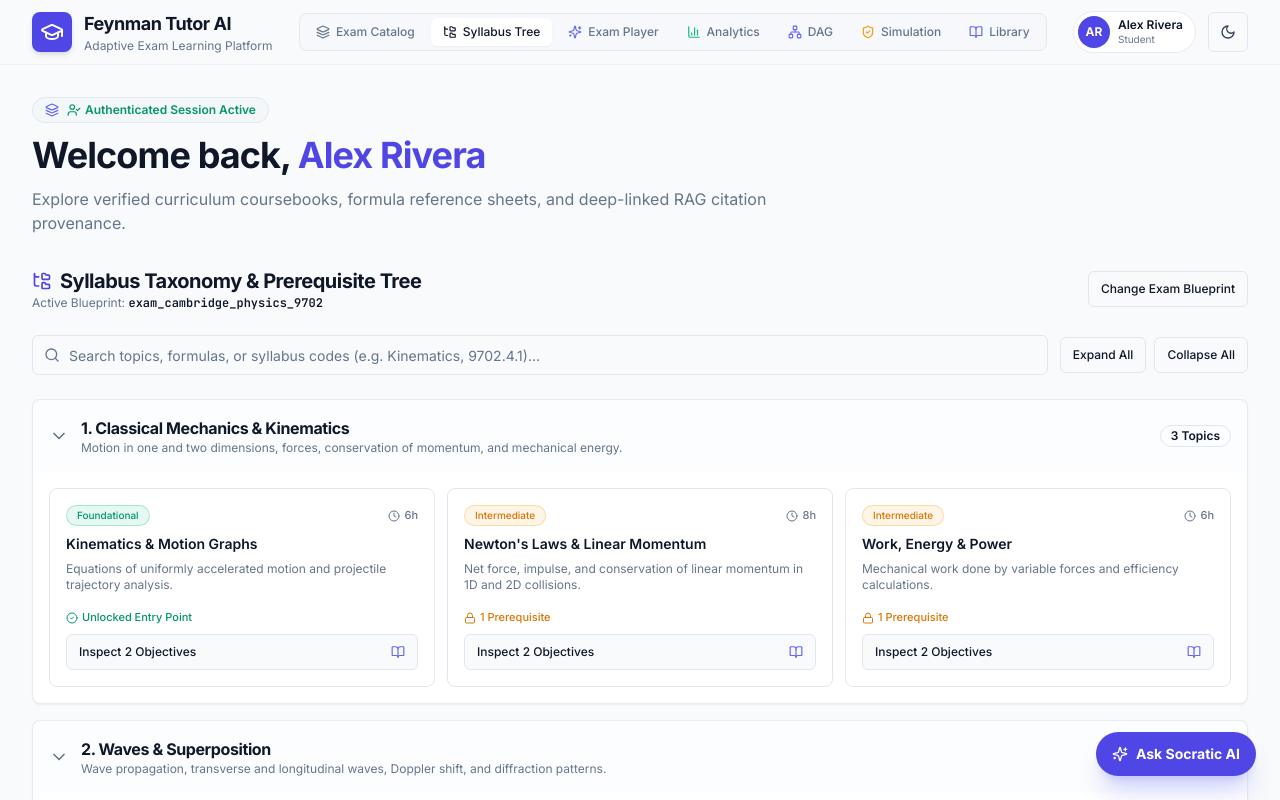
Student Analytics & Error Bank Suite › filters error bank items by category and marks an error as resolved
The image size is (1280, 800).
Click the button "Analytics" at (723, 32), box top-left (675, 18), bottom-right (772, 46)
(page scrolled)
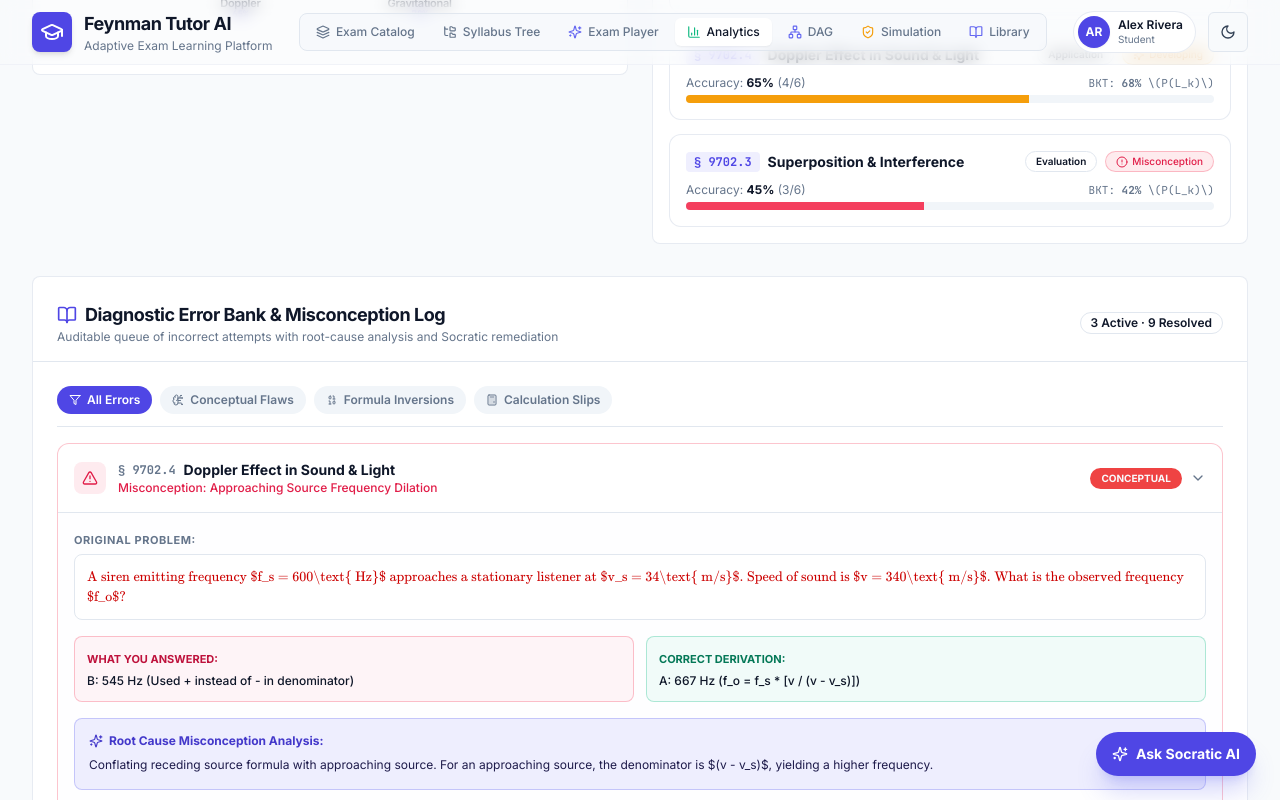
Check: the heading "Diagnostic Error Bank & Misconception Log" is shown, box top-left (57, 304), bottom-right (445, 325)
Click the button "Formula Inversions" at (390, 400), box top-left (314, 386), bottom-right (466, 414)
(page scrolled)
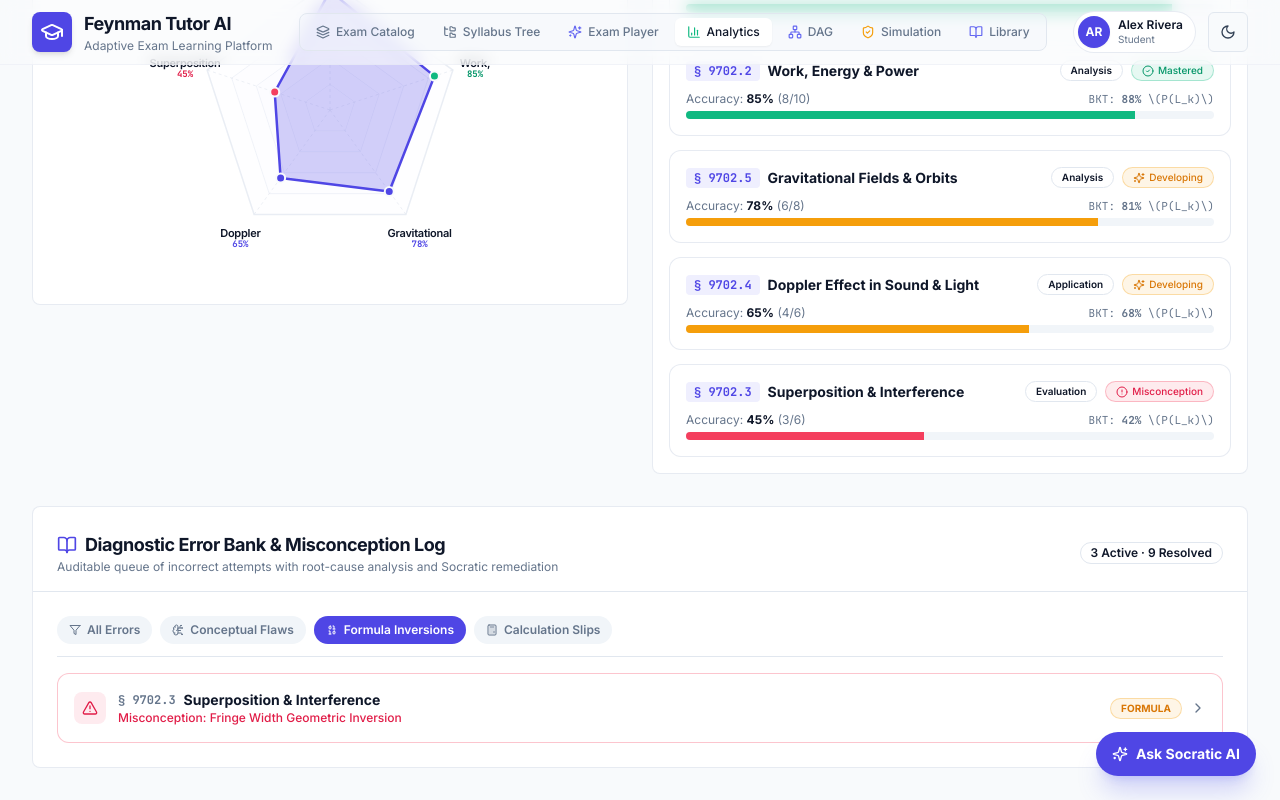
Check: the heading "Superposition & Interference" next to "Evaluation" is shown, box top-left (768, 382), bottom-right (964, 400)
Check: the text "Misconception: Fringe Width Geometric Inversion" is shown
Check: the text "Approaching Source Frequency Dilation" is gone
// Click card to expand details
Click the text "Misconception: Fringe Width Geometric Inversion" at (260, 718), box top-left (118, 710), bottom-right (402, 726)
(page scrolled)
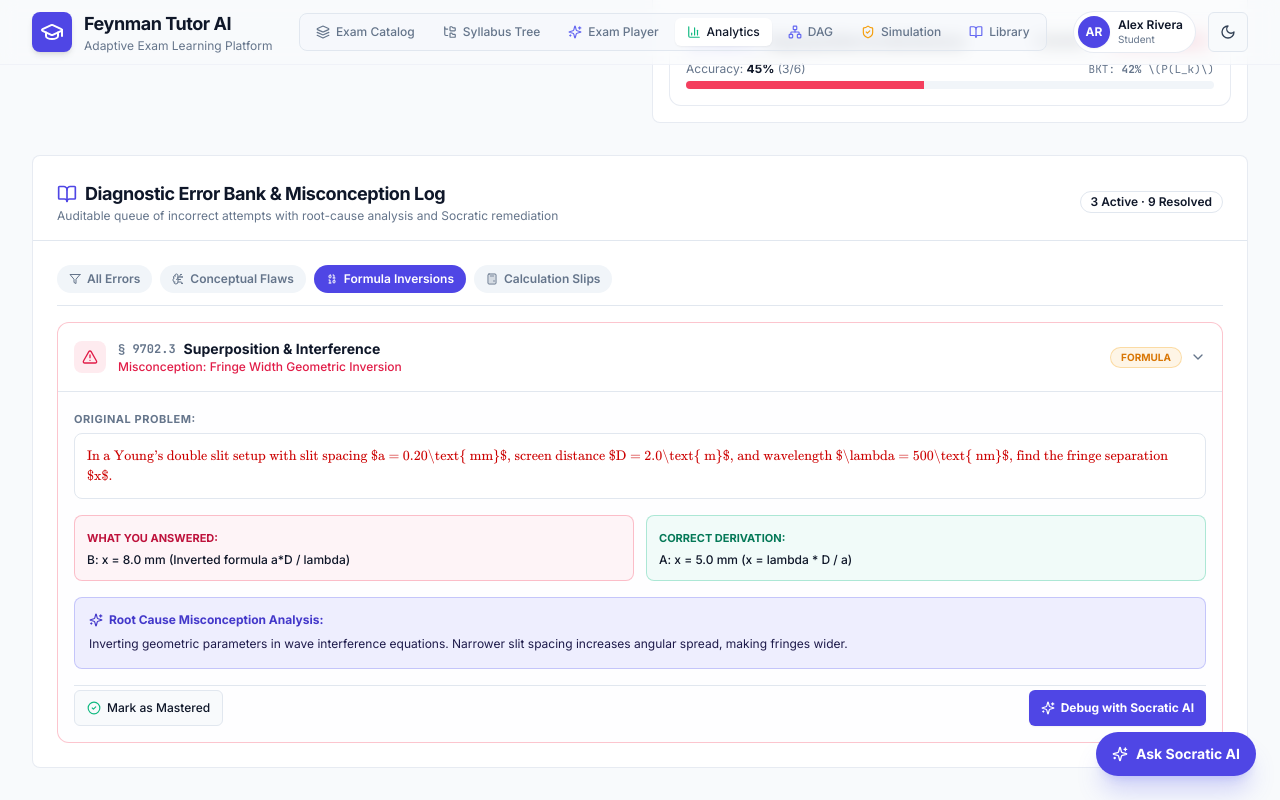
Click the button "Mark as Mastered" at (149, 708), box top-left (74, 690), bottom-right (223, 726)
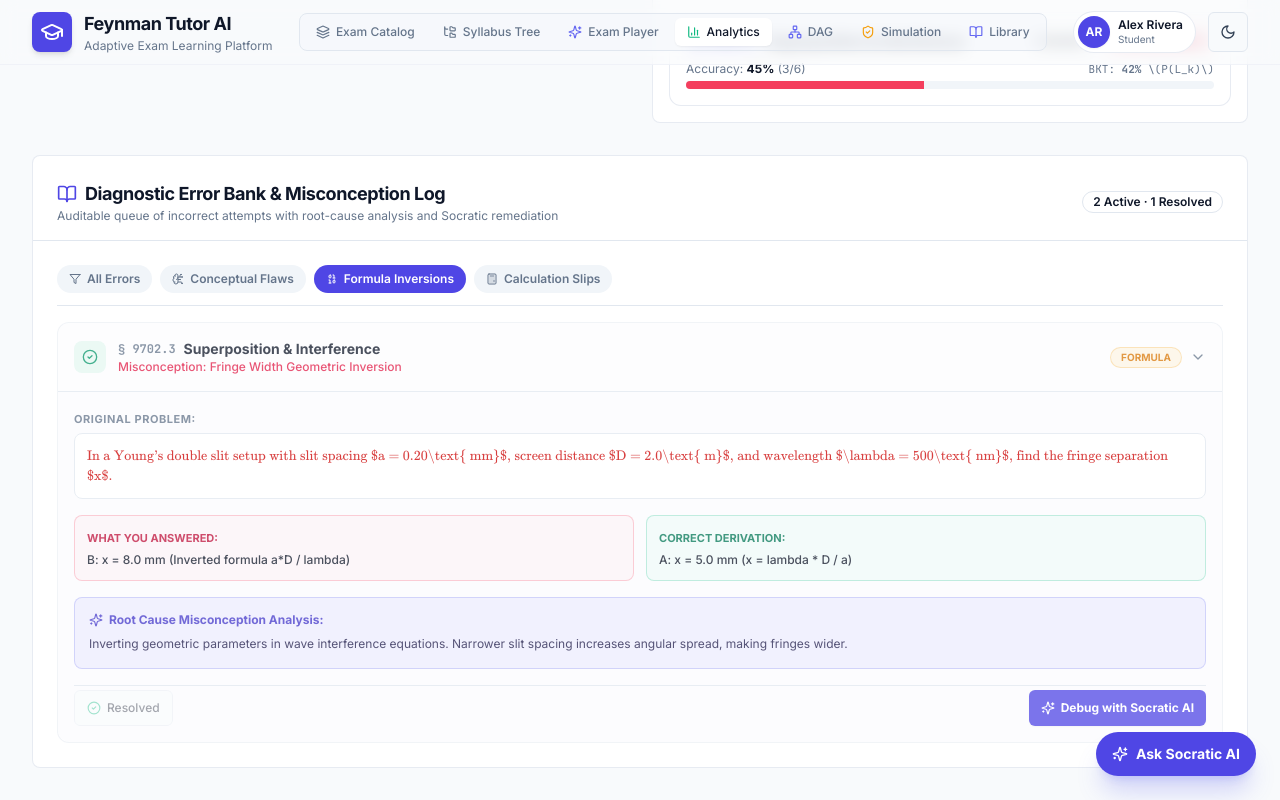
Check: the button "Resolved" is shown, box top-left (74, 690), bottom-right (173, 726)
